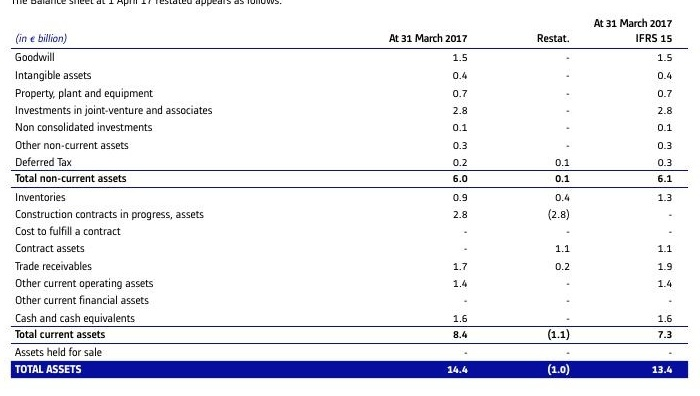table: (0, 0, 700, 396)
